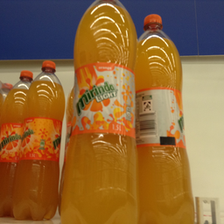soda: (62, 1, 136, 223), (136, 14, 192, 224), (10, 61, 65, 219)
